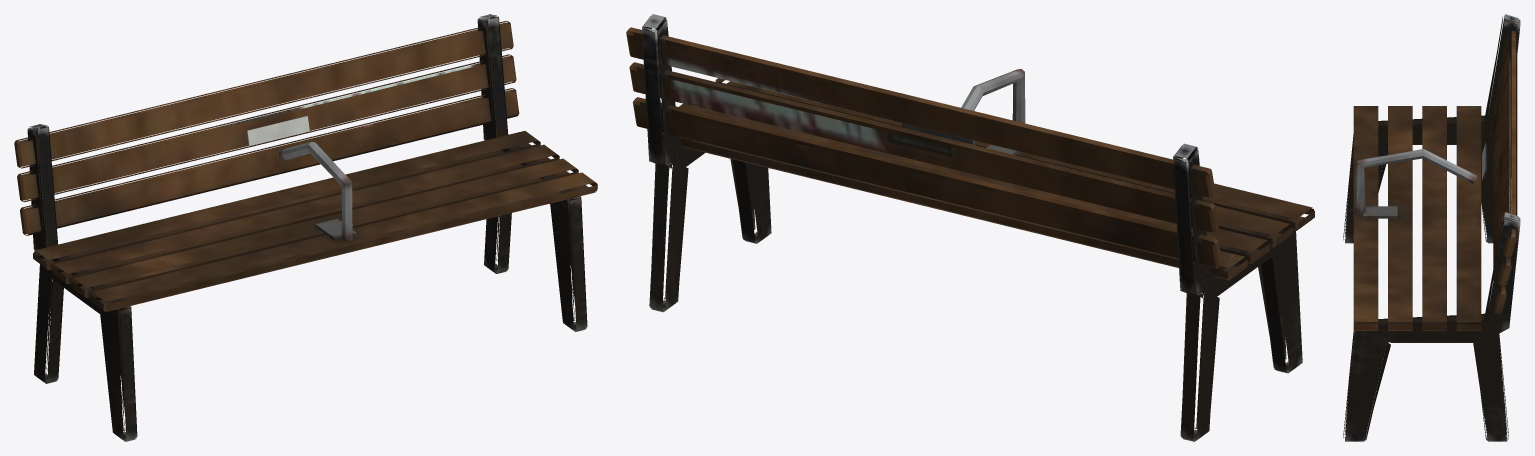
File: bench_lod1.glb
The picture shows the model from 3 angles, left to right: view 1: azimuth 30°, elevation 25°; view 2: azimuth 150°, elevation 25°; view 3: azimuth 270°, elevation 25°; orthographic projection. The views are drawn at different scales.
Parts seen in each view (by area): view 1: bench; view 2: bench; view 3: bench.
Part boxes in pixels (x1=…): bench: x1=14, y1=14, x2=597, y2=441; bench: x1=626, y1=14, x2=1314, y2=441; bench: x1=1343, y1=14, x2=1520, y2=441.
Size of what is drawn, in the model's own units: 1.8 by 0.8691 by 0.6201.
Materials: 1 (1 with a texture image).
